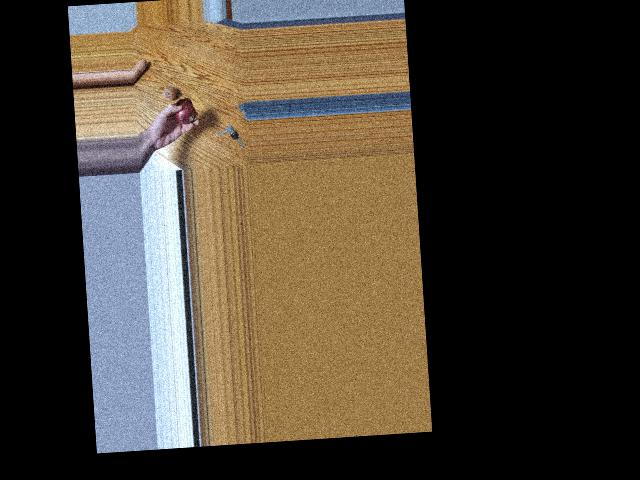onion: (175, 102, 196, 123)
